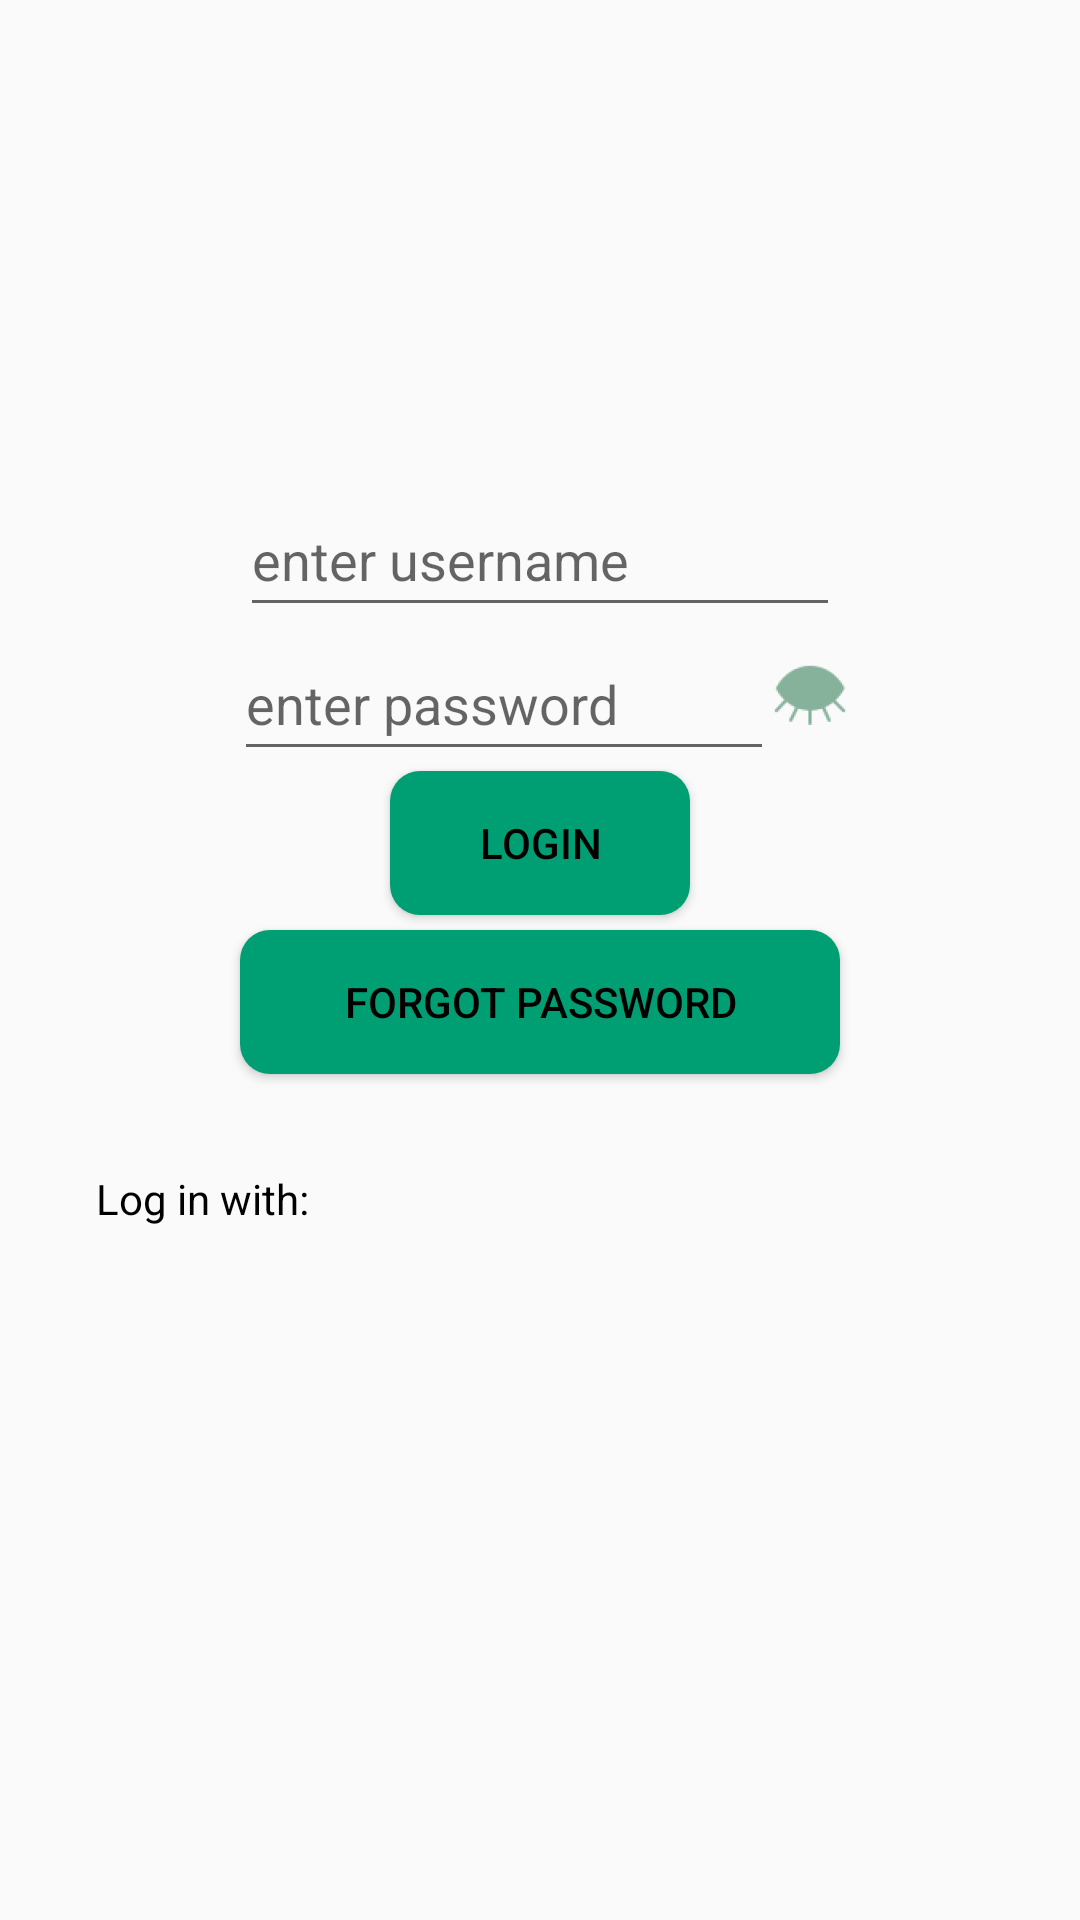

Locate icon controls on the screen. Image size 1080px x 1920px, boxes as (x1, y1, x2, y2).
closed eye: (775, 666, 845, 725)
